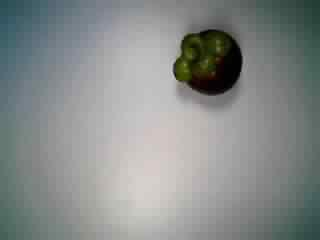mangosteen: (165, 26, 248, 101)
